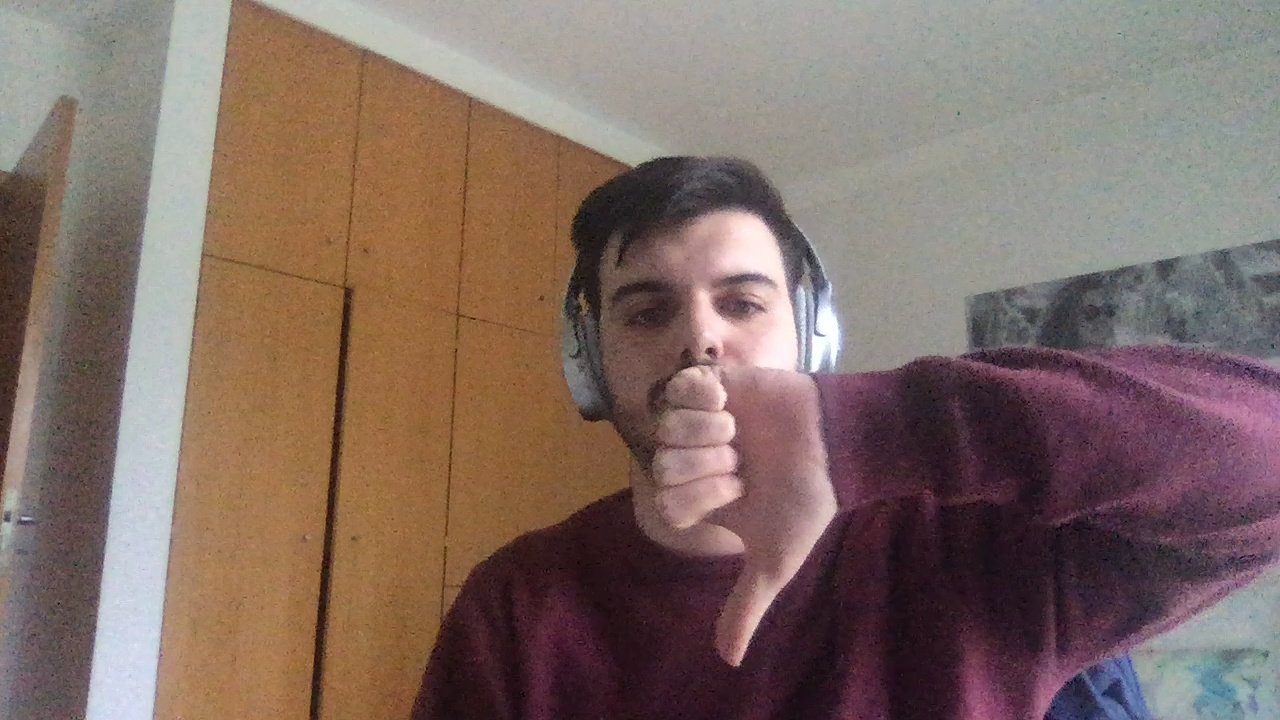ThumbsDown: (650, 365, 832, 668)
